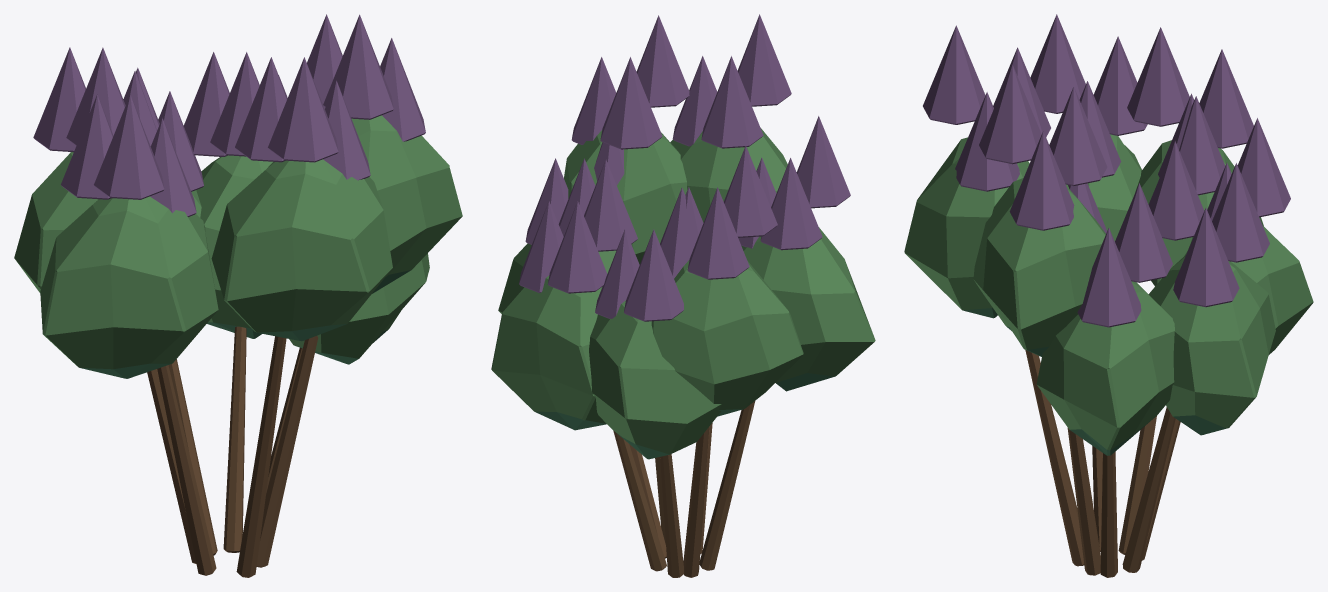
File: b08_common_lilac.glb
3 views of the same model, side by side, from view 1: azimuth 30°, elevation 25°; view 2: azimuth 150°, elevation 25°; view 3: azimuth 270°, elevation 25° (orthographic). The views are drawn at different scales.
Visible parts, largest first — view 1: b08_common_lilac; view 2: b08_common_lilac; view 3: b08_common_lilac.
Part boxes in pixels (<box>): b08_common_lilac: <box>14,14,462,577</box>; b08_common_lilac: <box>491,14,875,577</box>; b08_common_lilac: <box>904,14,1313,577</box>.
Size of the model in its own units: 1.63 by 2.18 by 1.51.
